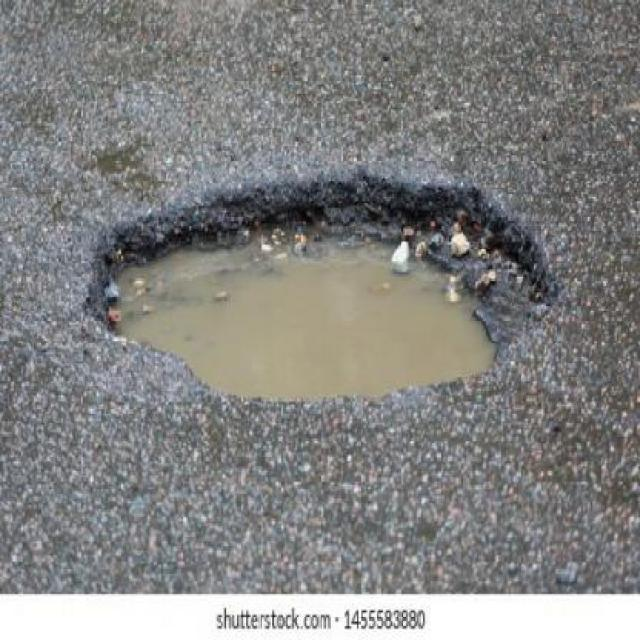Pothole: (87, 173, 558, 404)
